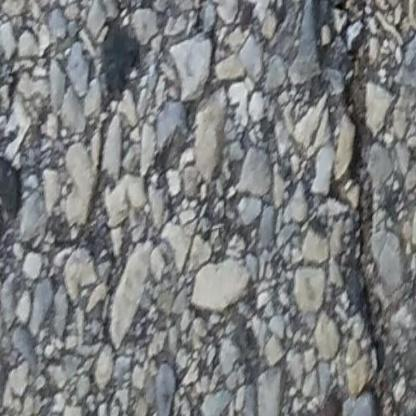Cracks: (323, 0, 410, 416)
